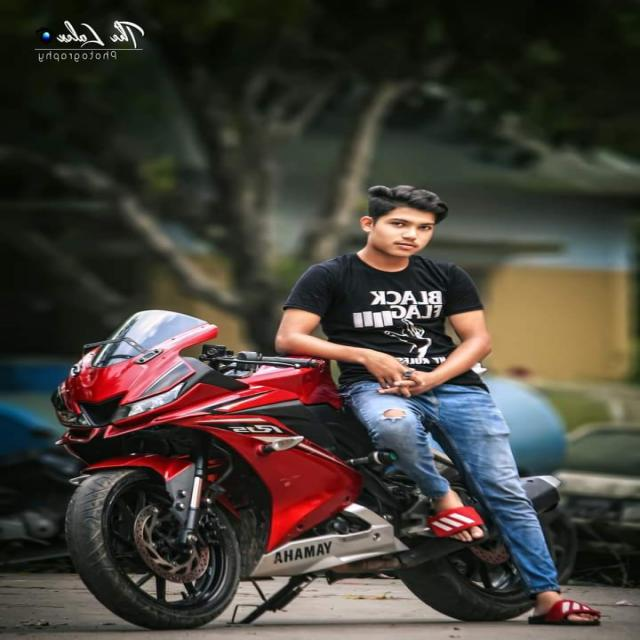Not Wearing Helmet: (272, 146, 510, 294)
